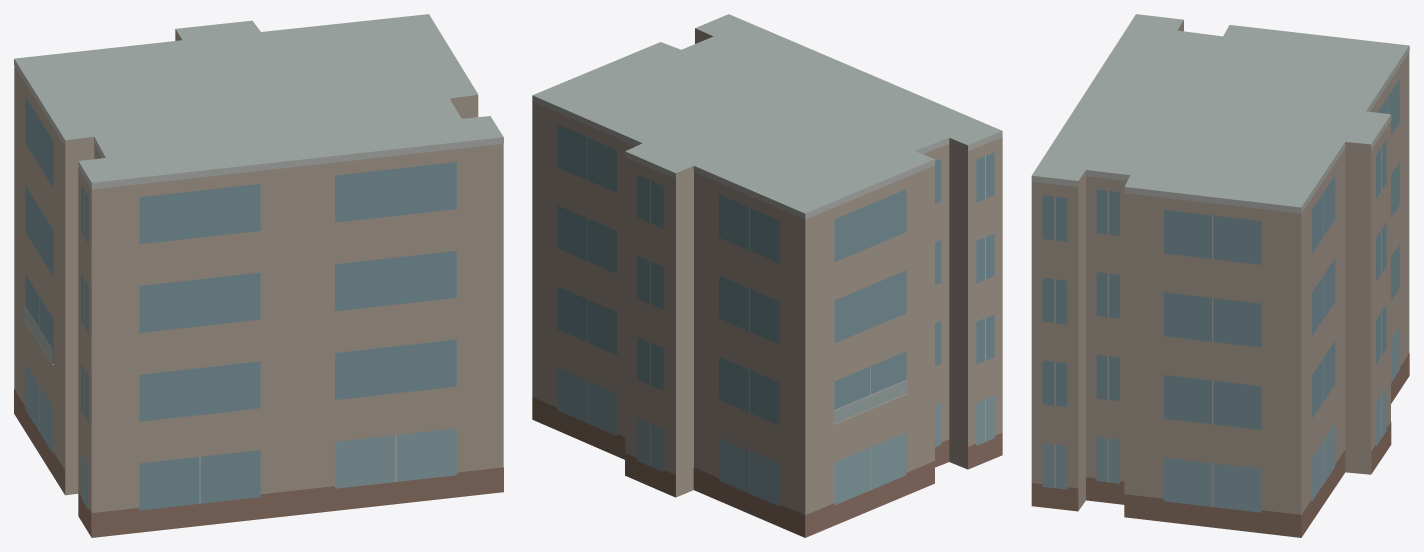
Rendered from survey-upis-32708872.glb.
3 renders of one model, left to right at view 1: azimuth 30°, elevation 25°; view 2: azimuth 150°, elevation 25°; view 3: azimuth 270°, elevation 25°, orthographic. The views are drawn at different scales.
Visible parts, largest first — view 1: survey-upis-32708872.tmp; view 2: survey-upis-32708872.tmp; view 3: survey-upis-32708872.tmp.
Boxes of the visible parts, x1=… form: survey-upis-32708872.tmp: x1=14, y1=14, x2=503, y2=537; survey-upis-32708872.tmp: x1=532, y1=14, x2=1002, y2=537; survey-upis-32708872.tmp: x1=1031, y1=14, x2=1409, y2=537.
Size of the model in its own units: 16.4 by 13.05 by 13.54.
